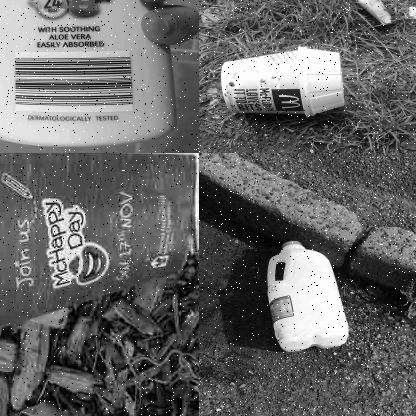plastic: (0, 153, 198, 341), (0, 0, 179, 149), (261, 232, 354, 350), (216, 45, 350, 118)
